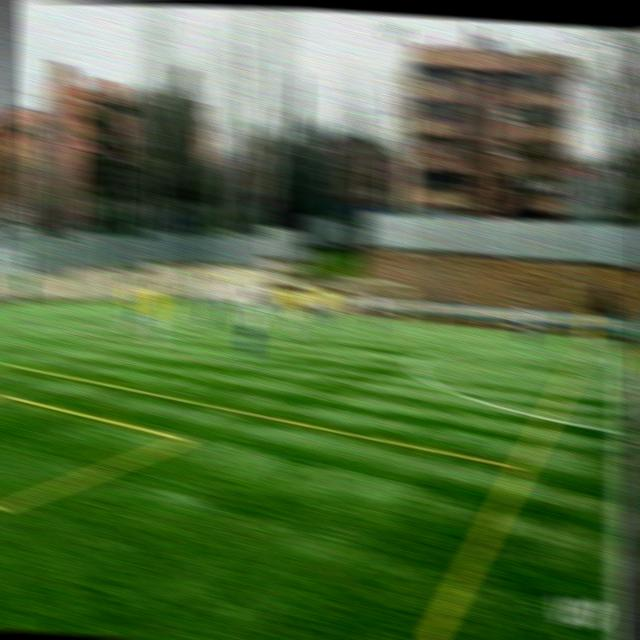bigarea_top_outter: (163, 296, 177, 306)
bottom_arc_area_intersection: (21, 314, 54, 339)
halfcircle_bottom: (605, 414, 639, 451)
halfcircle_top: (610, 348, 631, 372)
smallarea_top_inner: (105, 301, 119, 312)
smallarea_top_outter: (68, 298, 84, 309)
top_arc_area_intersection: (187, 304, 207, 327)
